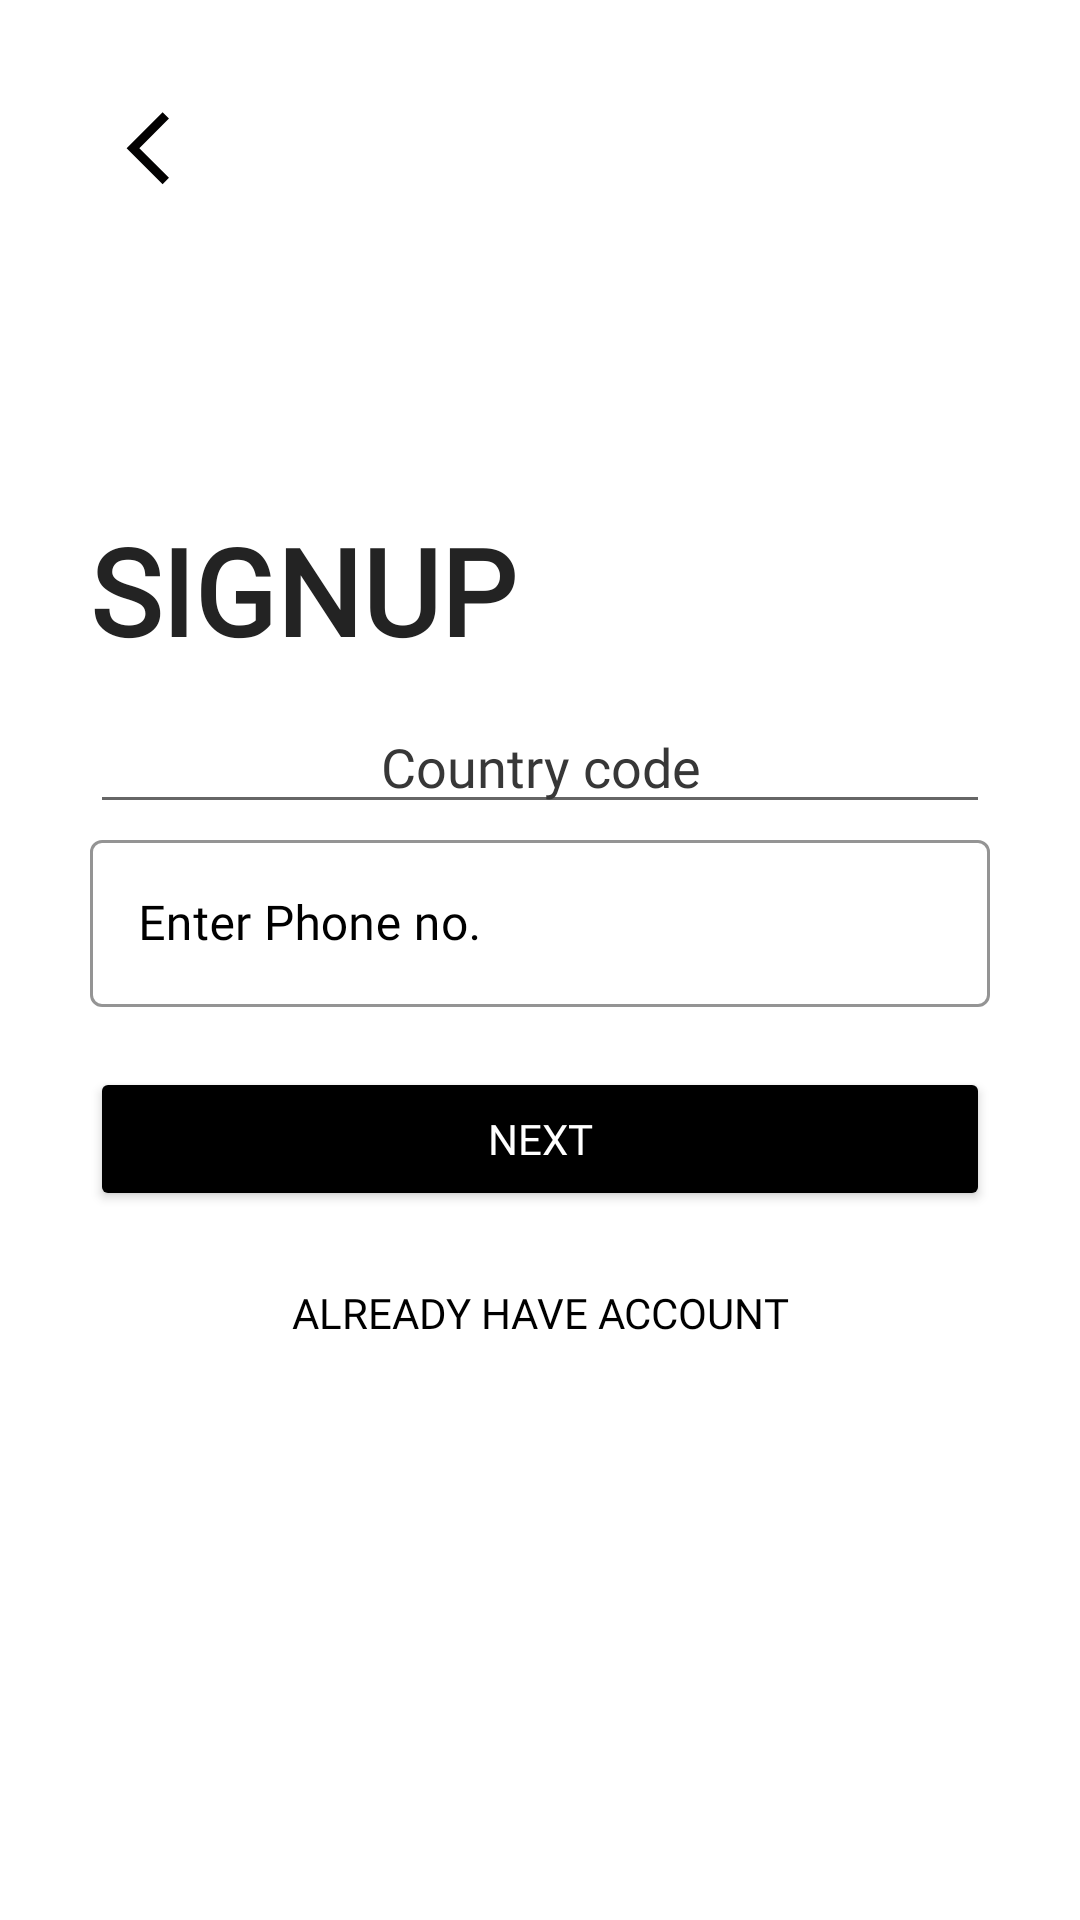

Screen size 1080w x 1920h. Icon name, then its center in pixels as [x,y]:
arrow back: [147,148]
